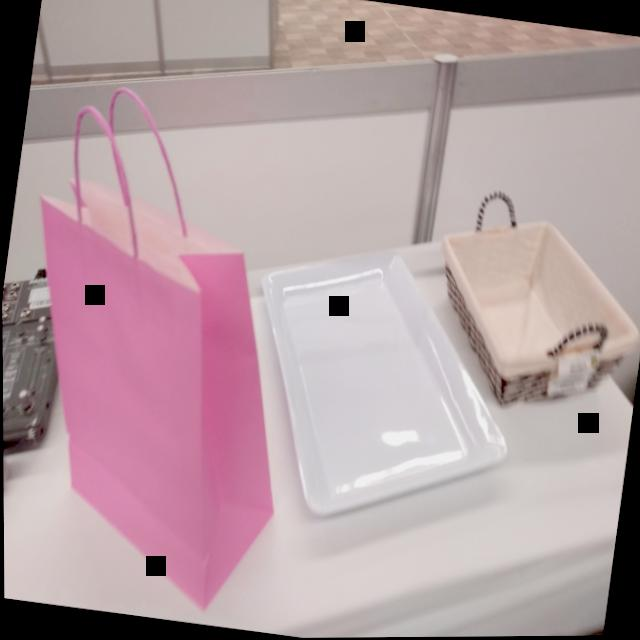basket: (416, 175, 640, 434)
help_me_carry_opl: (0, 78, 330, 624)
tray: (223, 227, 536, 550)
